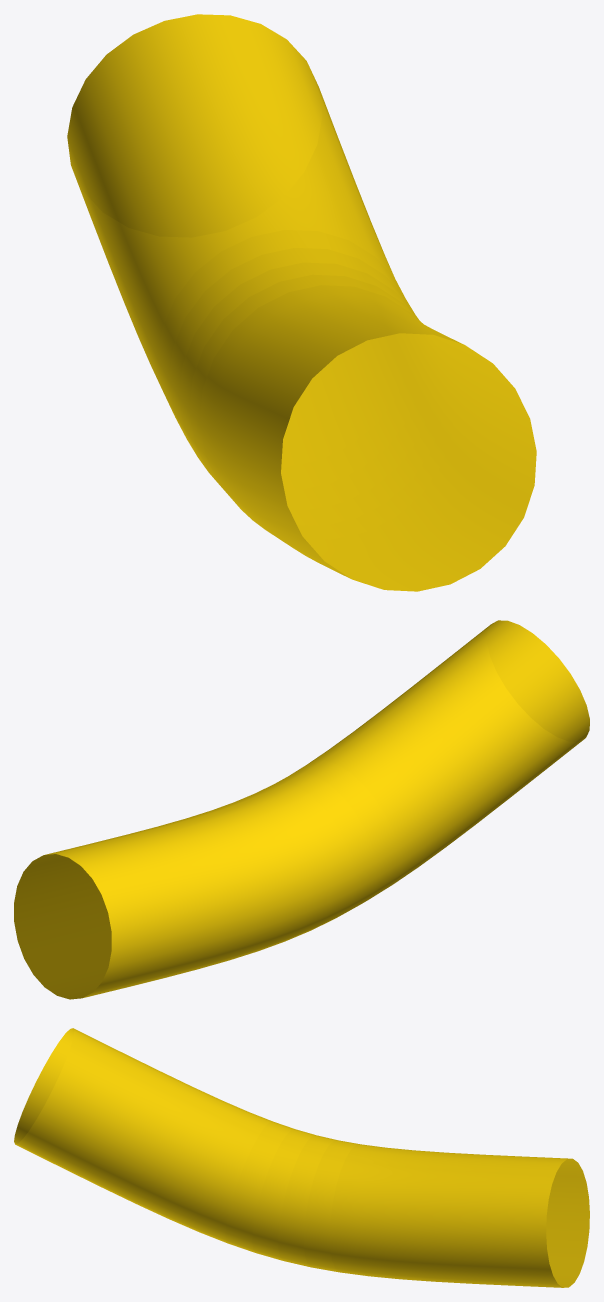
File: Event_421364160_track_60.fbx
3 views of the same model, one above another, from view 1: azimuth 30°, elevation 25°; view 2: azimuth 150°, elevation 25°; view 3: azimuth 270°, elevation 25° (orthographic). The views are drawn at different scales.
Visible parts, largest first — view 1: Model; view 2: Model; view 3: Model.
Boxes of the visible parts, box(x1,y1,x2,y2) form: Model: box(67, 14, 536, 591); Model: box(14, 620, 589, 999); Model: box(14, 1028, 589, 1287).
Bounding box in the file's own units: 0.0928 × 0.0651 × 0.1771.
